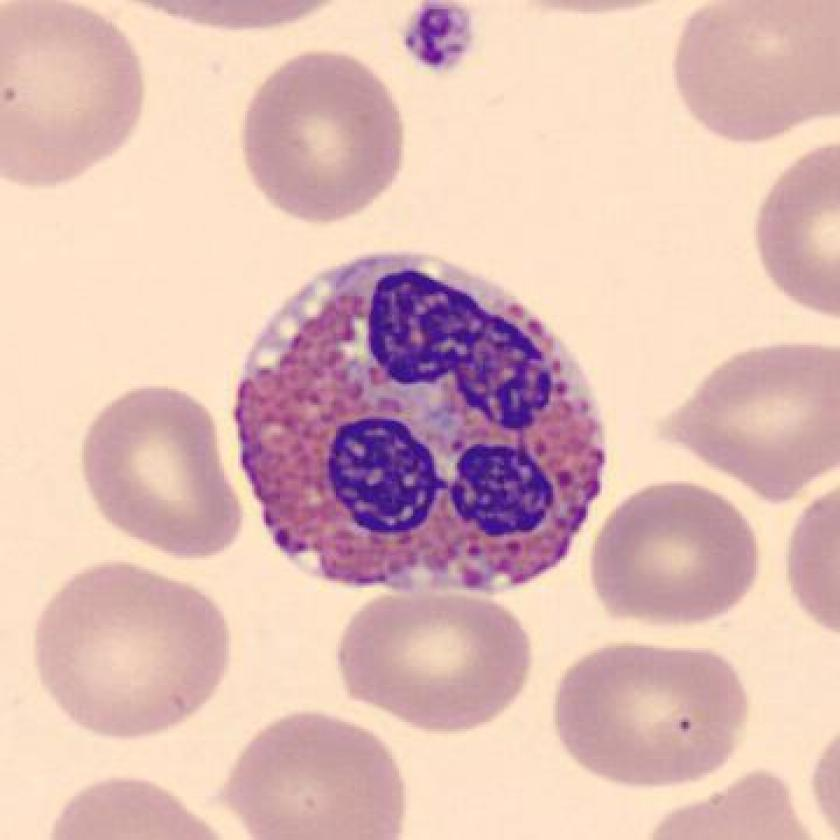eosinophil: (220, 240, 622, 608)
